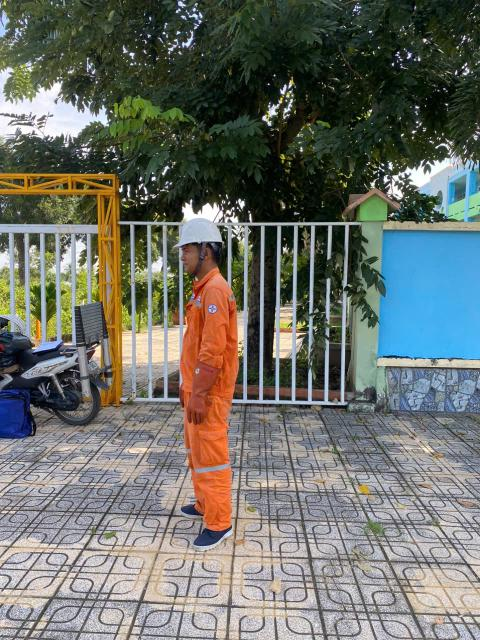gloves: (184, 383, 220, 430), (171, 378, 204, 409)
helmet: (168, 214, 229, 257)
shoes: (173, 489, 227, 518), (192, 520, 235, 552)
